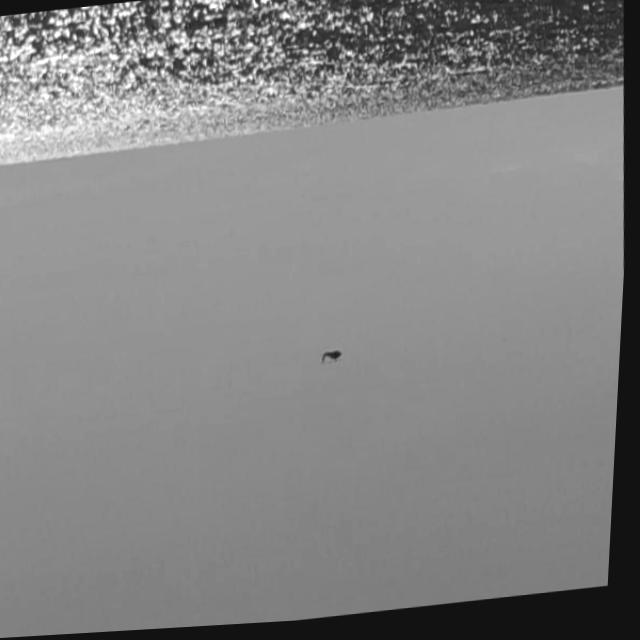helikopter: (301, 328, 364, 392)
